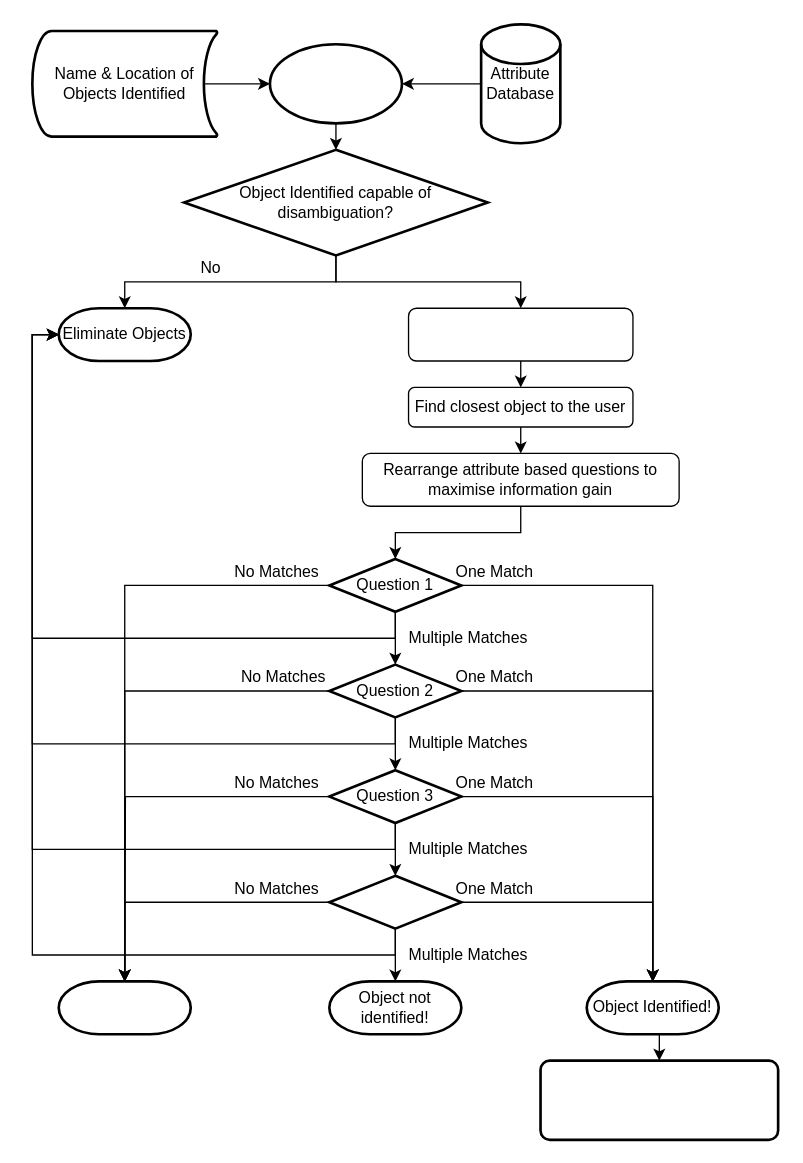
Some shapes in this 803 by 1163 pixel diagram are drawn without their labels. Here are the shapes that lost their labels. From the top down, the centre of each, then its label:
At (335,83): "START".
At (520,334): "Find unique features of all objects in the group".
At (394,901): "Question 4".
At (124,1007): "Disambiguation failed!".
At (659,1099): "Name unique feature of identified object & Name Eliminated objects".
